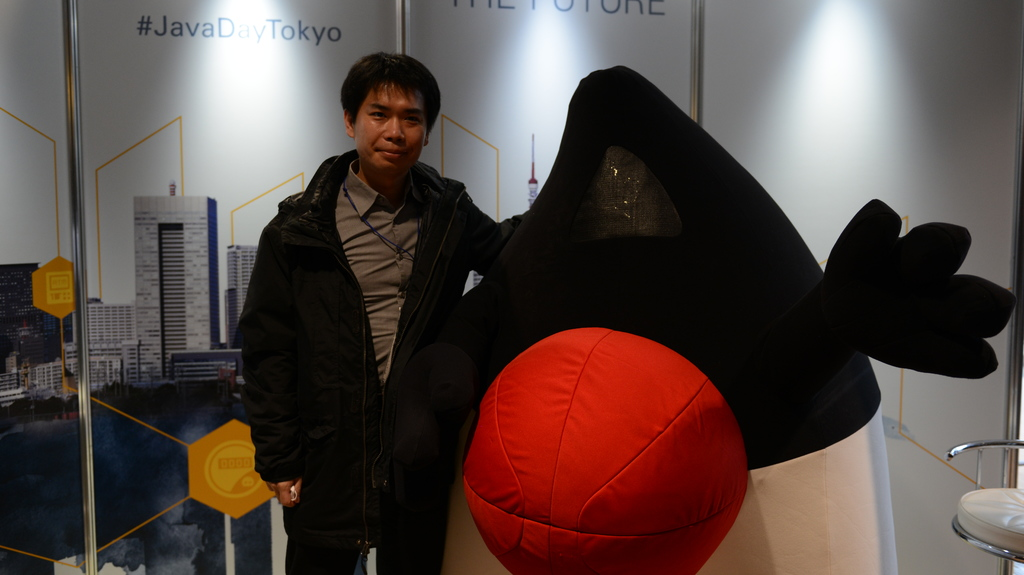Ball: (465, 326, 748, 574)
